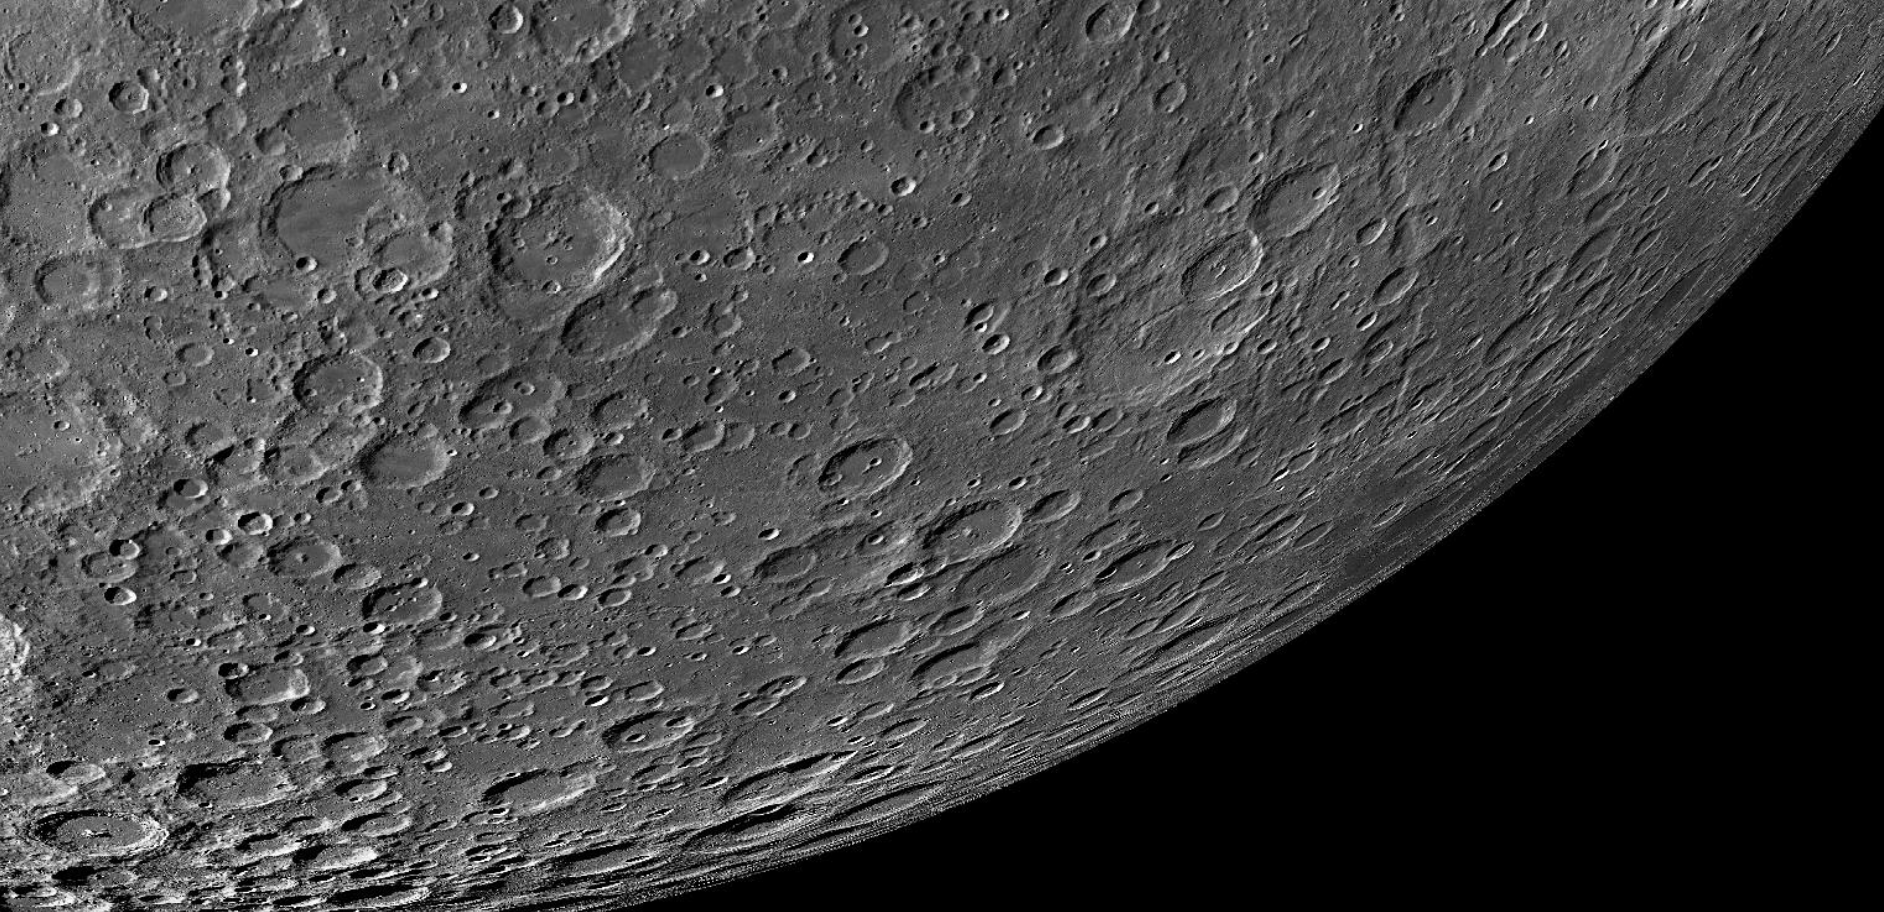crater: (469, 165, 632, 314), (1372, 52, 1475, 166), (792, 435, 923, 517), (628, 118, 716, 202), (1554, 136, 1628, 233), (2, 4, 76, 99), (262, 532, 345, 588), (827, 228, 898, 292), (1143, 62, 1205, 129), (95, 67, 157, 129), (1027, 109, 1087, 172), (762, 336, 819, 380), (166, 324, 217, 372), (1745, 95, 1791, 147), (1346, 202, 1393, 251), (1035, 255, 1079, 303), (1149, 335, 1190, 381)
